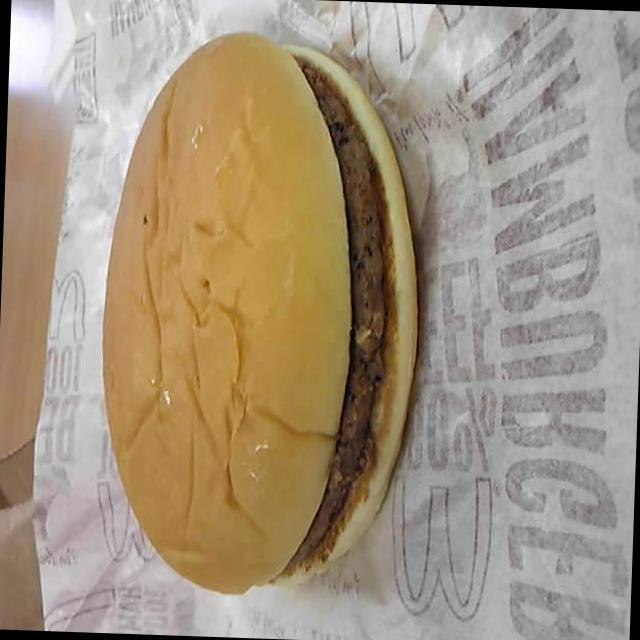Hamburger: (90, 18, 450, 606)
